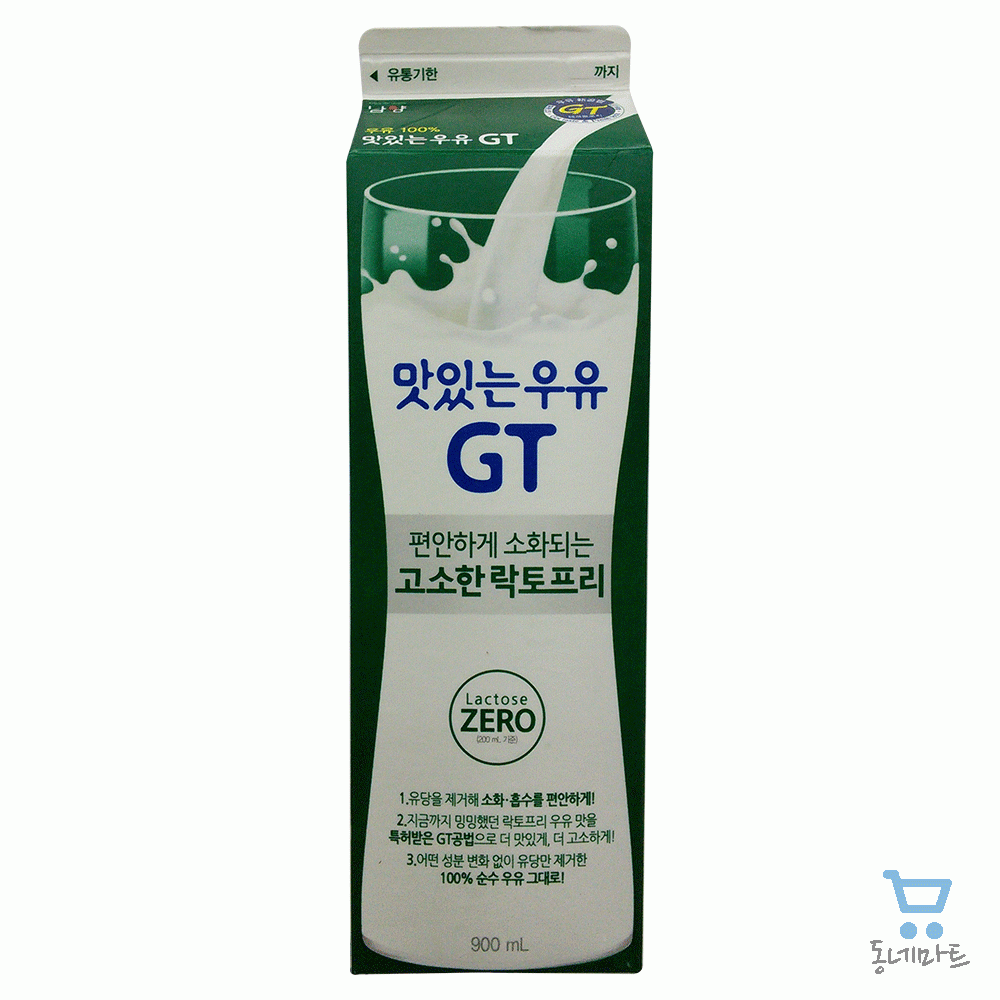milk: (345, 26, 642, 978)
